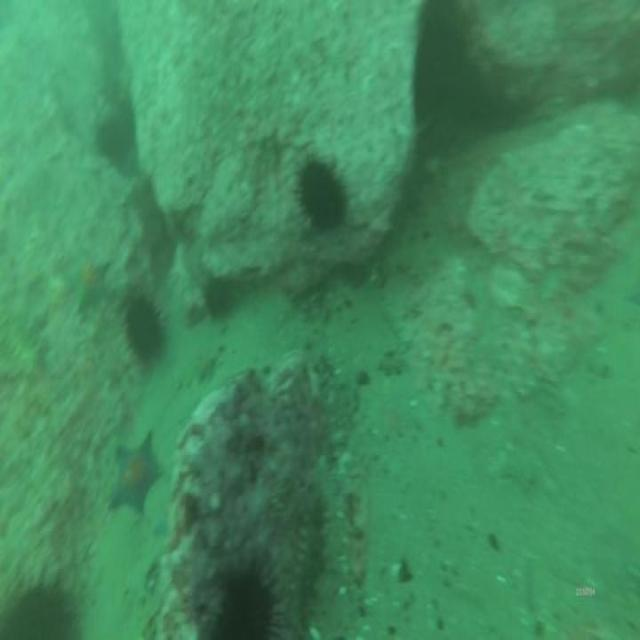echinus: (202, 553, 282, 640), (1, 567, 87, 640), (292, 149, 352, 237), (123, 291, 166, 371), (92, 104, 138, 168), (200, 274, 232, 322)
holothurian: (285, 494, 328, 640), (0, 302, 46, 384)
starfish: (108, 428, 166, 523), (64, 243, 117, 321), (194, 349, 218, 386)
